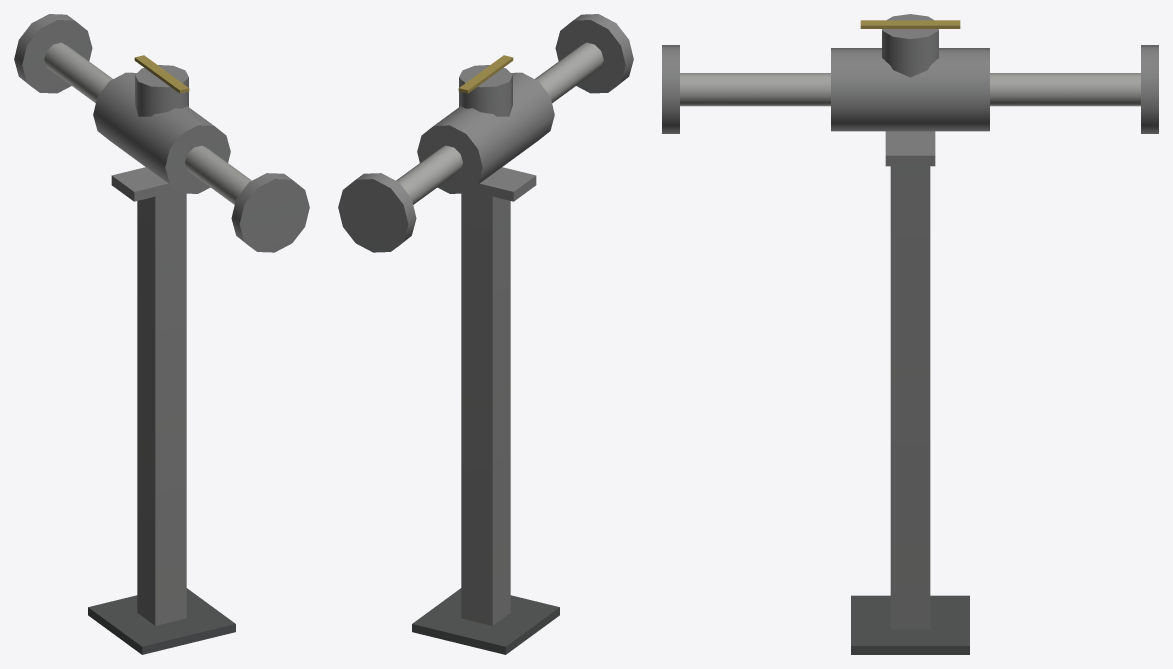
File: flCheck_steel.glb
3 views of the same model, side by side, from view 1: azimuth 30°, elevation 25°; view 2: azimuth 150°, elevation 25°; view 3: azimuth 270°, elevation 25° (orthographic). The views are drawn at different scales.
Visible parts, largest first — view 1: flCheck_steel; view 2: flCheck_steel; view 3: flCheck_steel.
Part boxes in pixels (bbox=[...]): flCheck_steel: bbox=[14, 14, 309, 654]; flCheck_steel: bbox=[338, 14, 633, 654]; flCheck_steel: bbox=[662, 14, 1158, 654].
Bounding box in the file's own units: 0.12 × 0.674 × 0.5.
